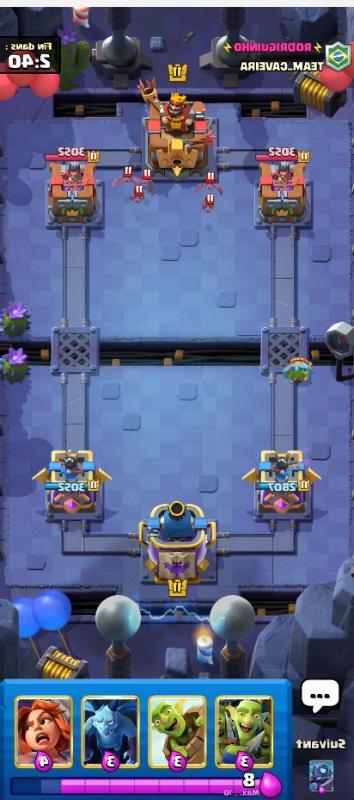enemy_bats: (189, 174, 229, 196), (109, 166, 140, 186), (133, 169, 158, 192), (125, 187, 151, 208), (200, 196, 221, 218)
player_dart_goblin: (278, 351, 319, 390)
